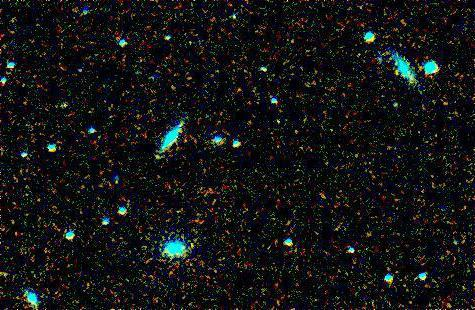star: (142, 141, 172, 171)
